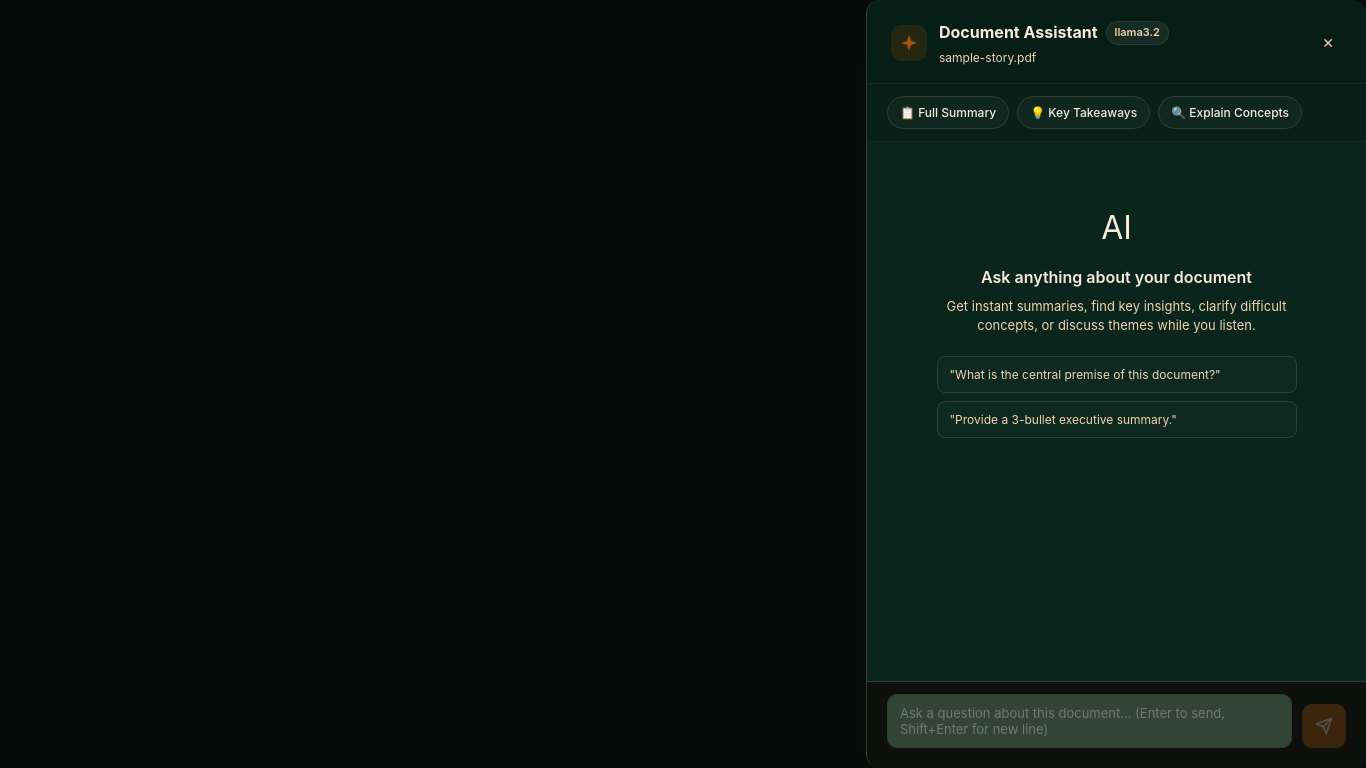
Test: AssistantDrawer component › sends user message and displays assistant response
The image size is (1366, 768).
Replace the text in the text box with placeholder "Ask a question about this document" with "Who is the main character?" at (1090, 721), box [887, 694, 1292, 748]
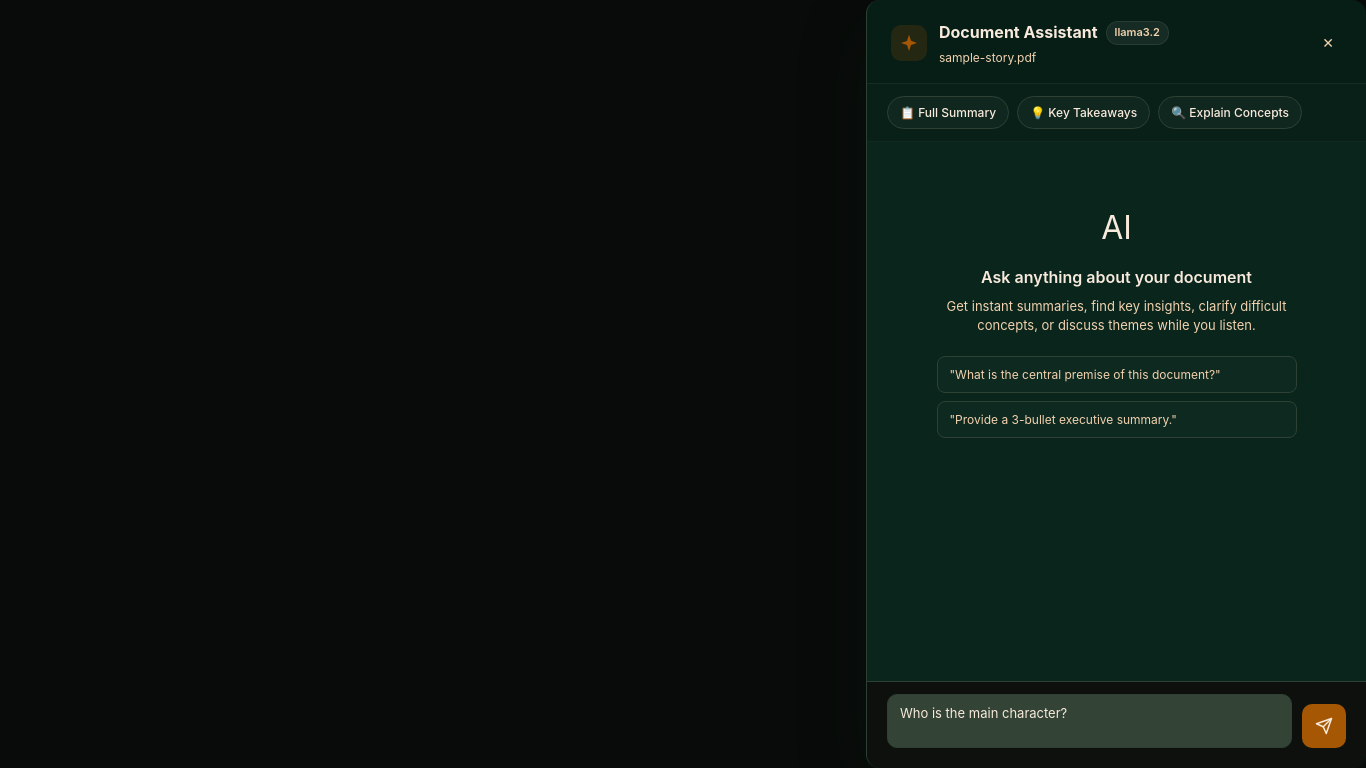
Click the button titled "Send message" at (1324, 726), box [1302, 704, 1346, 748]
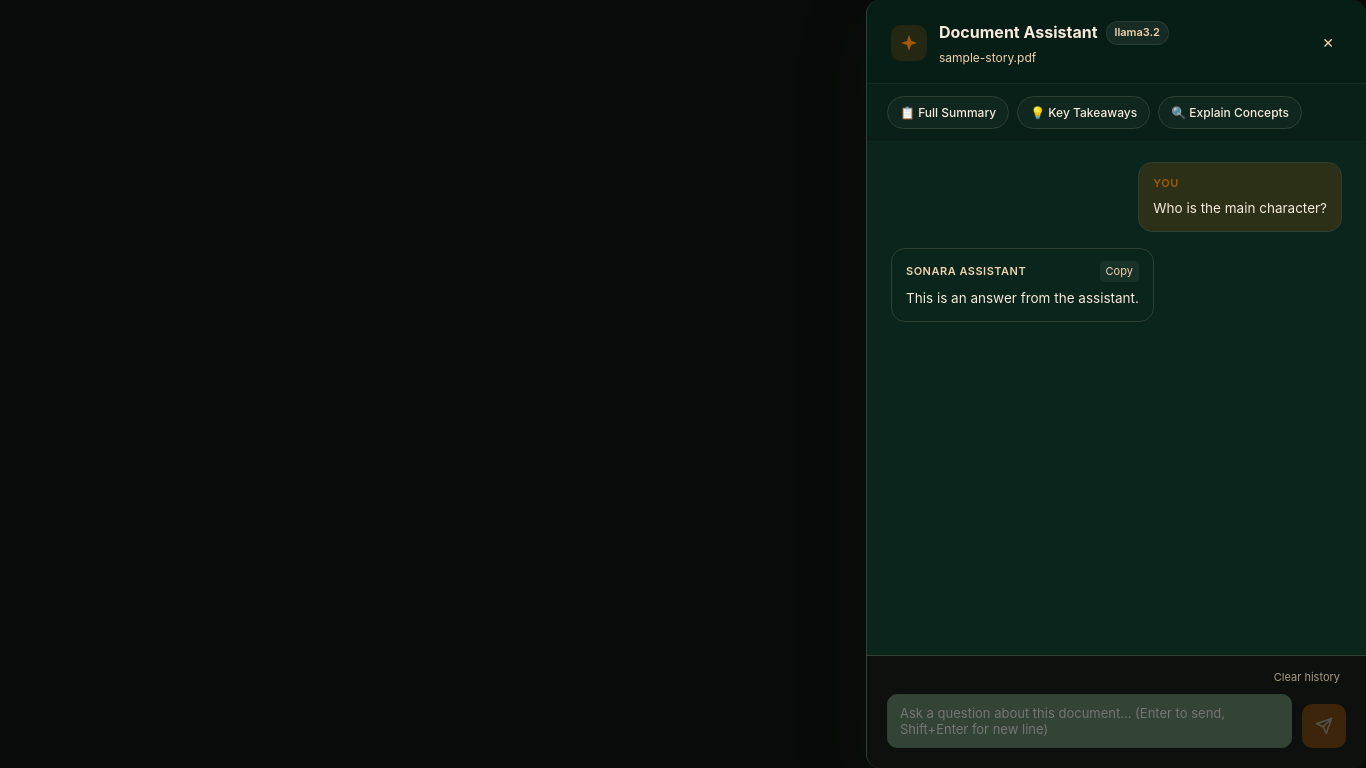
Expected: the text "Who is the main character?" is shown, [1153, 198, 1327, 219]
Expected: the text "This is an answer from the assistant." is shown, [906, 288, 1139, 309]
